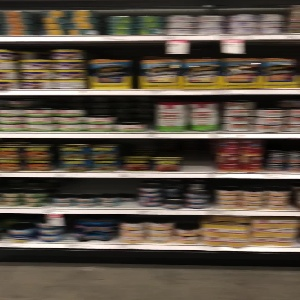void: (180, 140, 212, 172)
